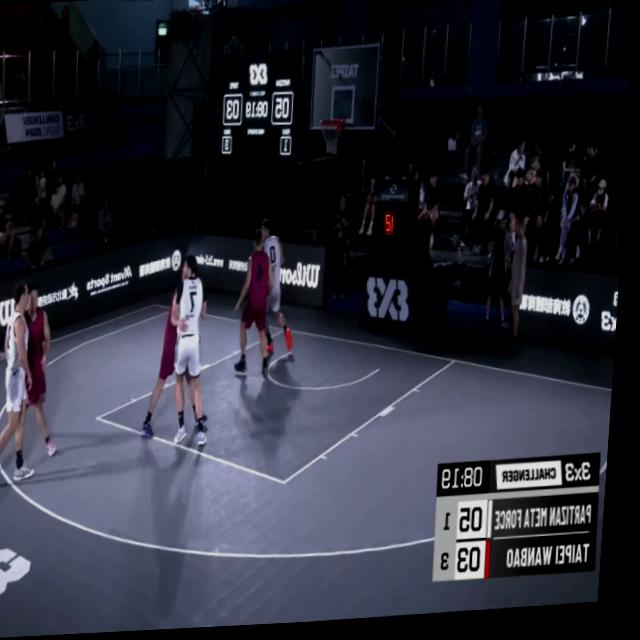hoop: (318, 116, 348, 162)
player: (141, 266, 209, 444), (174, 246, 222, 453), (0, 280, 47, 490), (17, 286, 73, 460), (250, 217, 306, 362), (233, 231, 284, 389)
